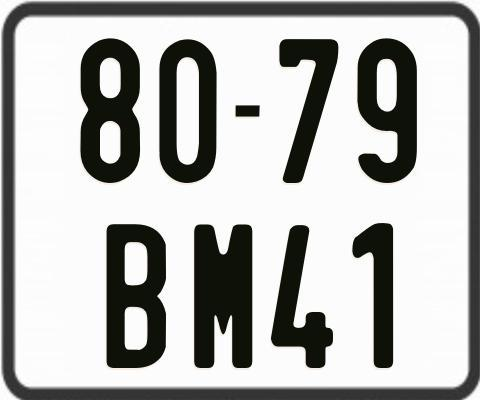0: (156, 39, 216, 189)
1: (352, 222, 394, 369)
4: (269, 225, 335, 369)
7: (277, 37, 336, 181)
8: (79, 38, 141, 188)
9: (355, 37, 417, 185)
B: (105, 223, 165, 367)
M: (191, 222, 252, 367)
